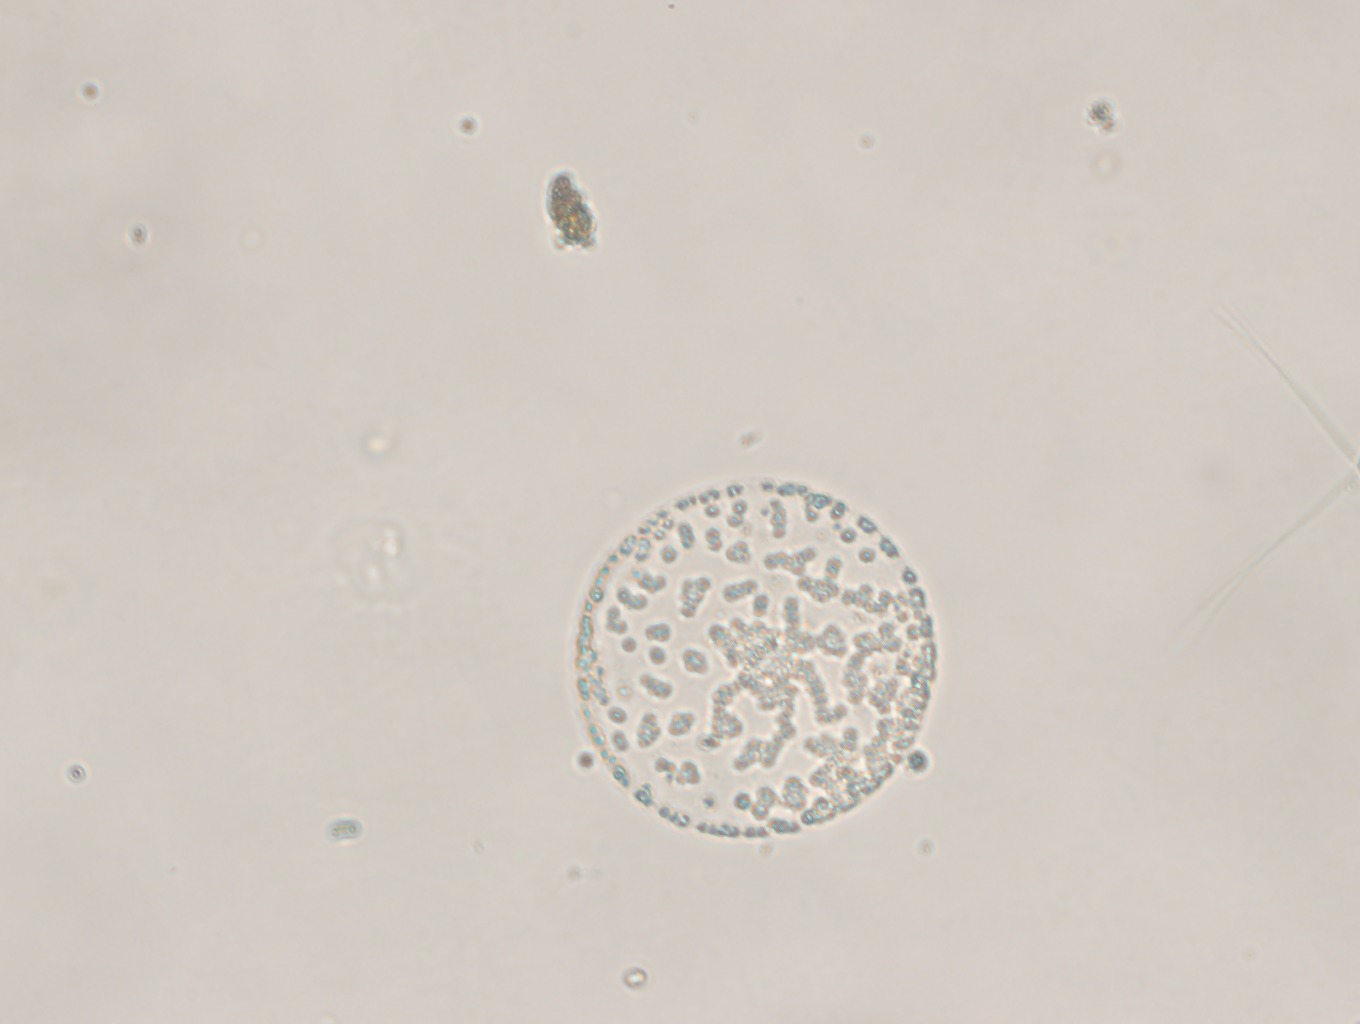coscinodiscus: (570, 480, 940, 843)
